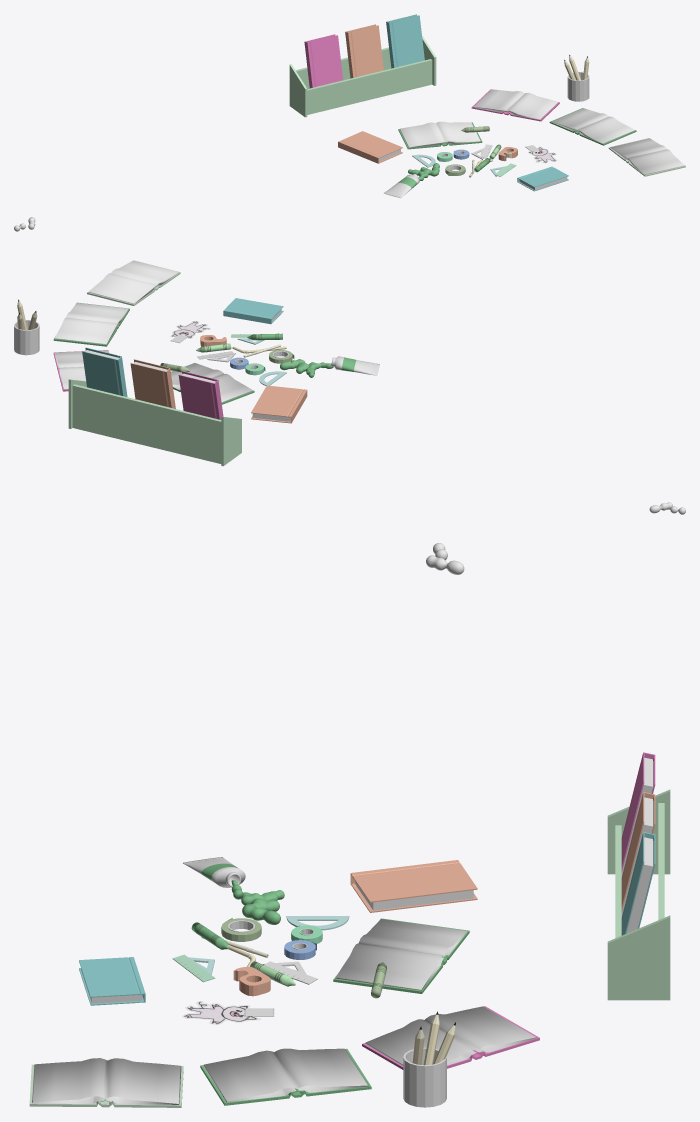
Rendered from kidapp2.glb.
The picture shows the model from 3 angles, top to bottom: view 1: azimuth 30°, elevation 25°; view 2: azimuth 150°, elevation 25°; view 3: azimuth 270°, elevation 25°; orthographic projection. The views are drawn at different scales.
Visible parts, largest first — view 1: Cube.001, Cube.042, Cube.032, Cube.028, Cube.033, Cube.007, Cube.010, Cube.004, Cube.022, Cube.012, Cube.040, Cube.030; view 2: Cube.001, Cube.033, Cube.032, Cube.004, Cube.007, Cube.010, Cube.022, Cube.028, Cube.012, Cube.040, Cube.042, Cube.030 (+1 smaller); view 3: Cube.001, Cube.032, Cube.033, Cube.028, Cube.042, Cube.022, Cube.038, Cube.040, Cube.012, Cube.030, Cube.031, Plane.003 (+5 smaller).
Part boxes in pixels (x1,y1,x2,y2): Cube.001: (289, 35, 436, 117); Cube.042: (471, 89, 559, 121); Cube.032: (549, 108, 636, 145); Cube.028: (398, 121, 482, 149); Cube.033: (608, 138, 685, 176); Cube.007: (345, 24, 383, 78); Cube.010: (304, 34, 342, 88); Cube.004: (386, 14, 424, 68); Cube.022: (338, 131, 402, 163); Cube.012: (384, 163, 439, 197); Cube.040: (517, 166, 568, 191); Cube.030: (567, 72, 589, 101); Cube.001: (68, 379, 241, 466); Cube.033: (87, 260, 180, 305); Cube.032: (53, 302, 129, 346); Cube.004: (82, 347, 127, 396); Cube.007: (130, 359, 175, 408); Cube.010: (178, 371, 223, 419); Cube.022: (251, 385, 307, 423); Cube.028: (171, 363, 254, 404); Cube.012: (280, 356, 379, 377); Cube.040: (223, 298, 283, 324); Cube.042: (53, 350, 108, 391); Cube.030: (14, 320, 39, 355); Cube.001: (607, 789, 670, 1000); Cube.032: (200, 1048, 371, 1105); Cube.033: (29, 1058, 183, 1107); Cube.028: (333, 918, 469, 993); Cube.042: (362, 1006, 539, 1069); Cube.022: (350, 860, 477, 912); Cube.038: (426, 543, 653, 933); Cube.040: (79, 957, 145, 1005); Cube.012: (183, 857, 284, 924); Cube.030: (403, 1047, 446, 1107); Cube.031: (412, 1011, 455, 1065); Plane.003: (182, 1001, 260, 1024).
Size of the model in its own units: 42.02 by 4.8 by 20.43.
22 materials, 1 textured.
